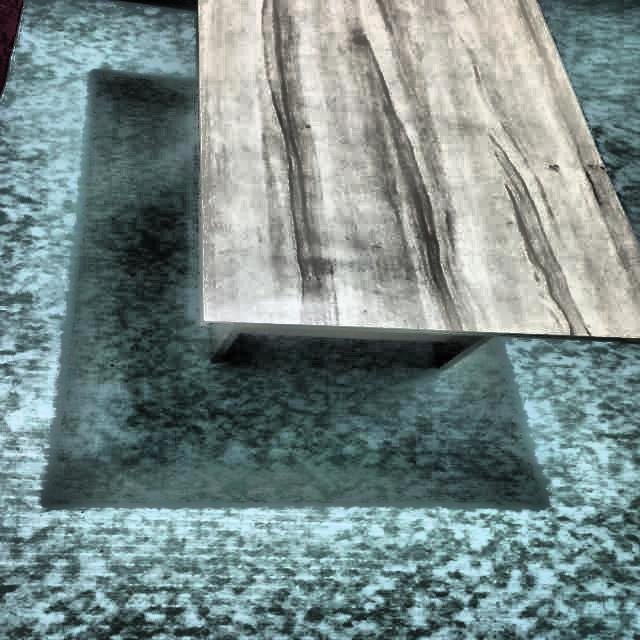mesa: (194, 0, 640, 373)
